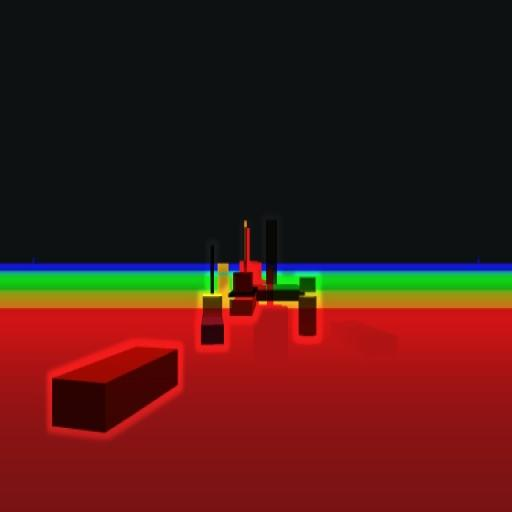buoy: (298, 276, 319, 337)
debris_container: (48, 342, 178, 436)
fishing_boat: (202, 255, 224, 346)
platform: (250, 216, 304, 304)
vessel: (231, 225, 255, 316)
